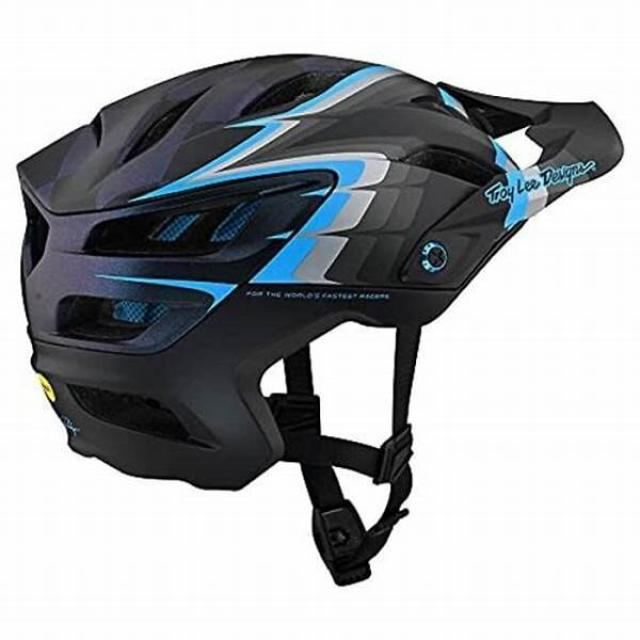illegal_helmet: (7, 39, 629, 594)
